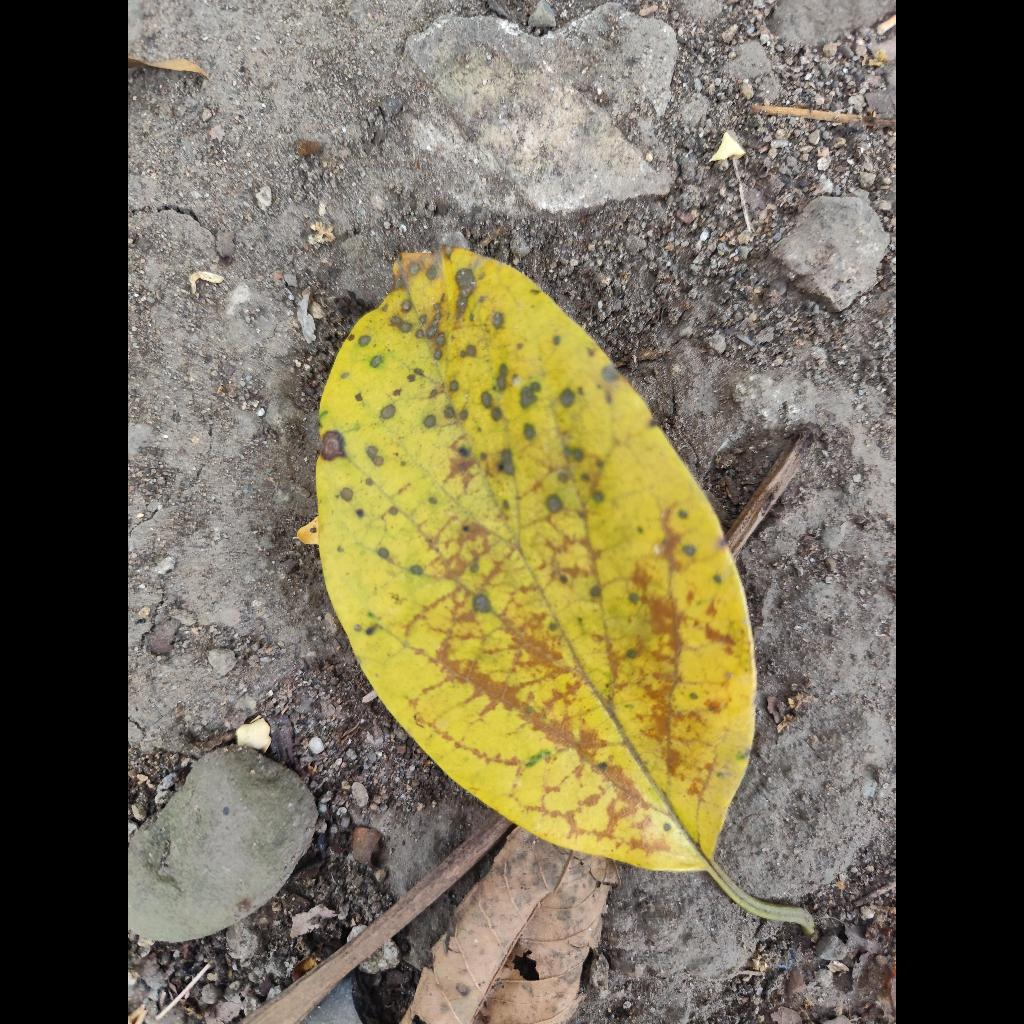deficiencia_nutricional: (316, 248, 804, 921)
